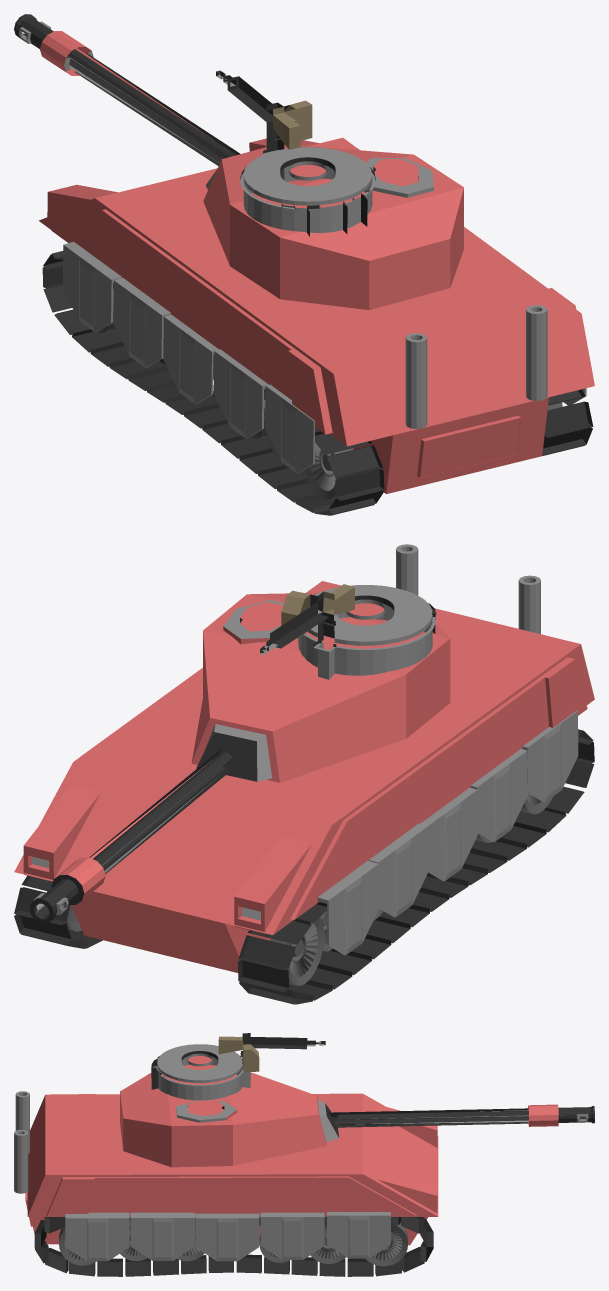
File: tank v1 rigqweged.fbx
3 renders of one model, top to bottom at view 1: azimuth 30°, elevation 25°; view 2: azimuth 150°, elevation 25°; view 3: azimuth 270°, elevation 25°, orthographic. The views are drawn at different scales.
Parts seen in each view (by area): view 1: Cube.003, Cube.002, Cube.004, Cube.001, Cube.005, Cylinder.009, Cylinder.014, Cylinder.001; view 2: Cube.003, Cube.002, Cube.004, Cube.001, Cube.005, Cylinder.001, Cylinder.009, Cylinder.014; view 3: Cube.003, Cube.002, Cube.000, Cube.005, Cylinder.002, Cylinder.014, Cylinder.009.
Part boxes in pixels (x1,y1,x2,y2): Cube.003: [39, 137, 594, 493]; Cube.002: [14, 14, 463, 310]; Cube.004: [62, 241, 314, 473]; Cube.001: [42, 251, 384, 515]; Cube.005: [542, 389, 593, 455]; Cylinder.009: [405, 333, 427, 428]; Cylinder.014: [526, 305, 547, 400]; Cylinder.001: [97, 289, 353, 499]; Cube.003: [14, 581, 594, 972]; Cube.002: [29, 584, 450, 923]; Cube.004: [317, 710, 578, 955]; Cube.001: [238, 729, 594, 1004]; Cube.005: [14, 875, 102, 948]; Cylinder.001: [270, 793, 552, 985]; Cylinder.009: [518, 575, 540, 634]; Cylinder.014: [396, 544, 418, 595]; Cube.003: [25, 1093, 438, 1245]; Cube.002: [120, 1033, 594, 1167]; Cube.000: [65, 1212, 390, 1261]; Cube.005: [34, 1217, 433, 1276]; Cylinder.002: [59, 1222, 407, 1266]; Cylinder.014: [14, 1130, 28, 1193]; Cylinder.009: [15, 1091, 29, 1153].
Bounding box in the file's own units: 681 × 663 × 1811.
